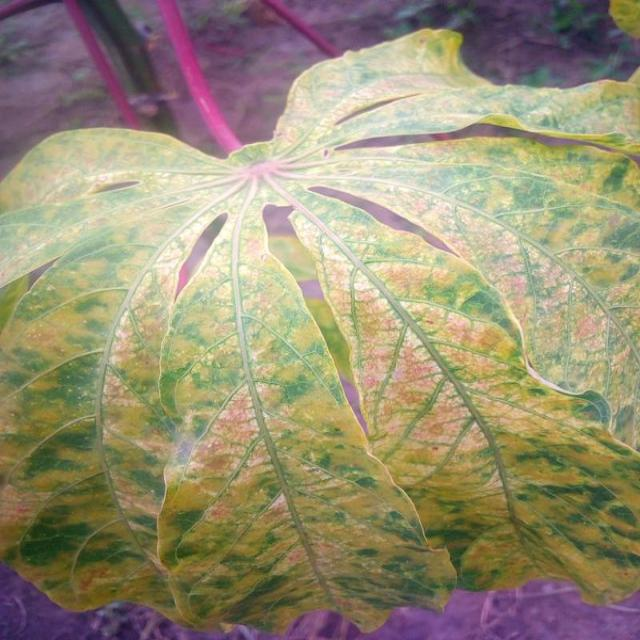cassava leaf: (0, 24, 638, 633)
